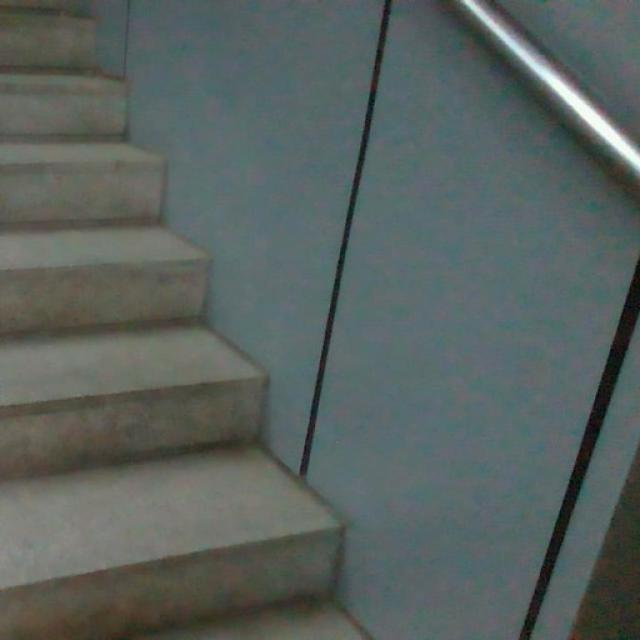stair: (1, 0, 348, 628)
